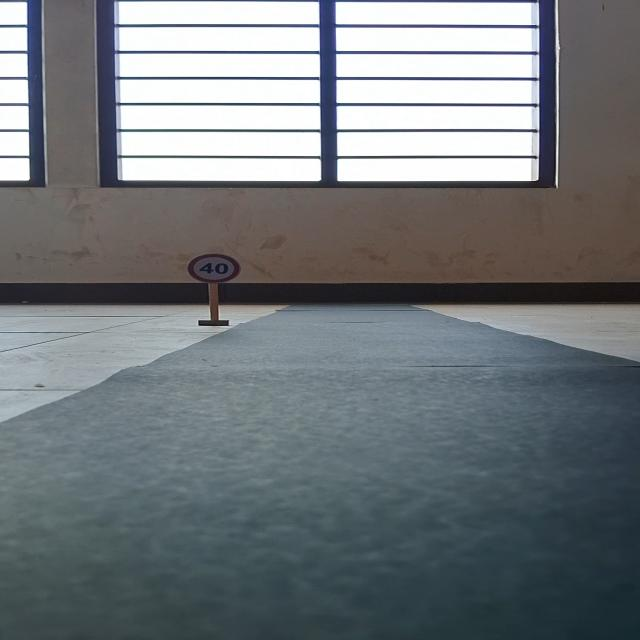Speed40: (184, 249, 244, 283)
